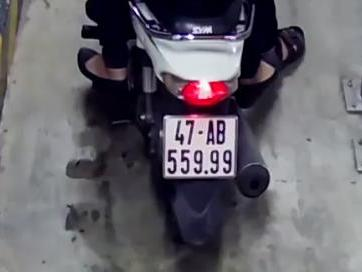num_plate: (160, 113, 239, 182)
